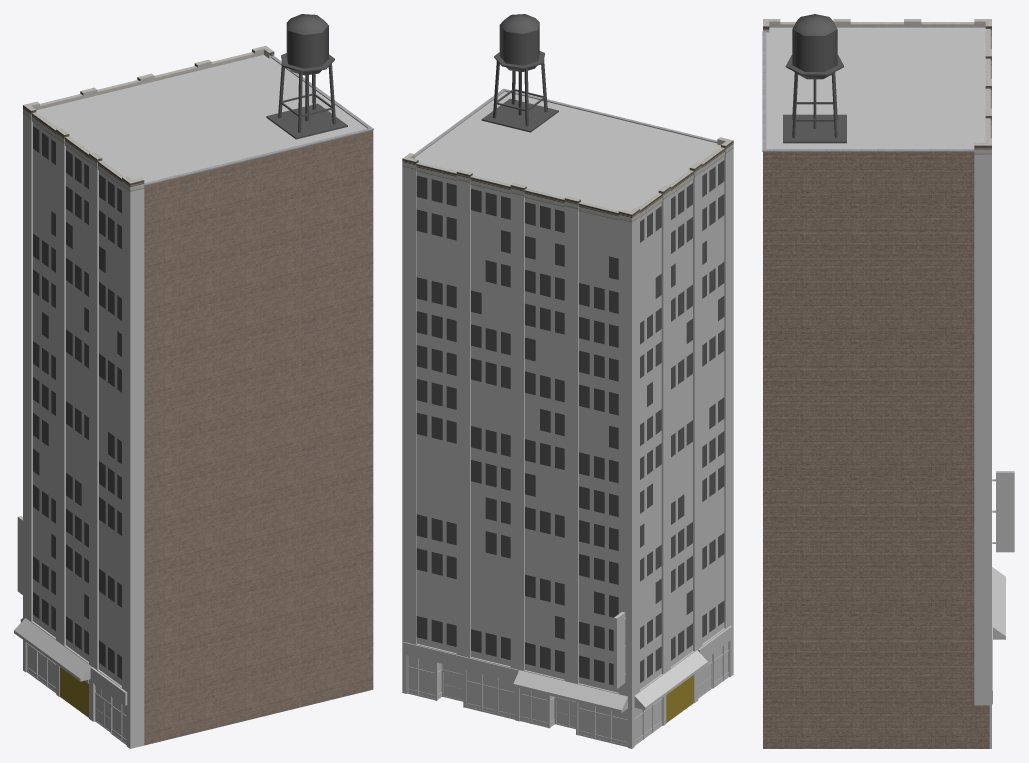
File: mcp_building_34_LOD_1.FBX
3 views of the same model, side by side, from view 1: azimuth 30°, elevation 25°; view 2: azimuth 150°, elevation 25°; view 3: azimuth 270°, elevation 25° (orthographic). The views are drawn at different scales.
Visible parts, largest first — view 1: mcp_building_34_walls, mcp_building_34, mcp_building_34_props_01, mcp_building_34_metal, mcp_building_34_props_03; view 2: mcp_building_34_walls, mcp_building_34, mcp_building_34_props_01, mcp_building_34_metal, mcp_building_34_props_03; view 3: mcp_building_34_walls, mcp_building_34_props_01, mcp_building_34, mcp_building_34_metal.
Part boxes in pixels (left/top/right/bottom): mcp_building_34_walls: left=23, top=46, right=373, bottom=748; mcp_building_34: left=14, top=126, right=144, bottom=744; mcp_building_34_props_01: left=266, top=14, right=347, bottom=139; mcp_building_34_metal: left=144, top=56, right=373, bottom=185; mcp_building_34_props_03: left=60, top=667, right=88, bottom=717; mcp_building_34_walls: left=402, top=91, right=733, bottom=702; mcp_building_34: left=402, top=160, right=733, bottom=748; mcp_building_34_props_01: left=481, top=14, right=558, bottom=132; mcp_building_34_metal: left=414, top=88, right=717, bottom=156; mcp_building_34_props_03: left=666, top=675, right=693, bottom=722; mcp_building_34_walls: left=763, top=19, right=991, bottom=748; mcp_building_34_props_01: left=783, top=14, right=846, bottom=143; mcp_building_34: left=974, top=471, right=1014, bottom=748; mcp_building_34_metal: left=762, top=31, right=974, bottom=151.
Bounding box in the file's own units: 2680 × 6675 × 2150.
